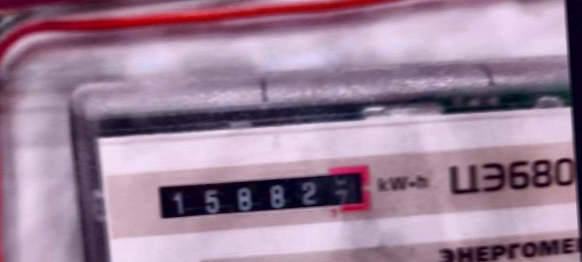1: (171, 188, 186, 214)
2: (300, 178, 317, 203)
5: (203, 185, 220, 212)
7: (334, 184, 349, 203)
8: (236, 184, 253, 211), (268, 181, 285, 207)
screen: (143, 155, 380, 232)
